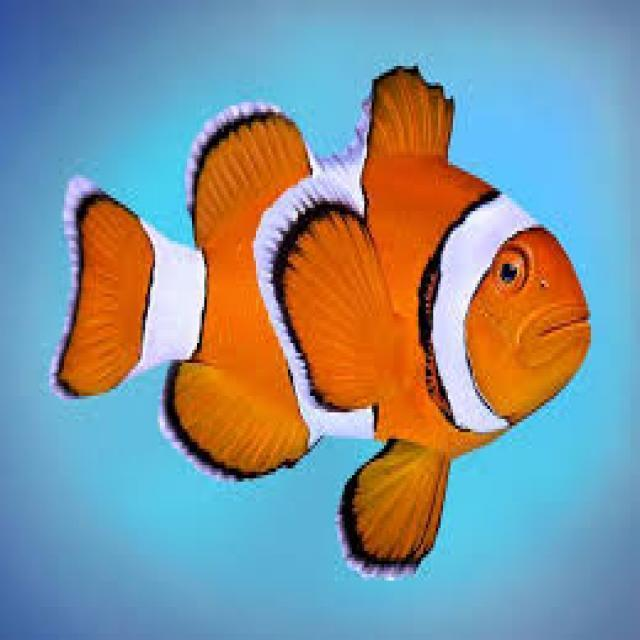ClownFish: (57, 61, 590, 580)
